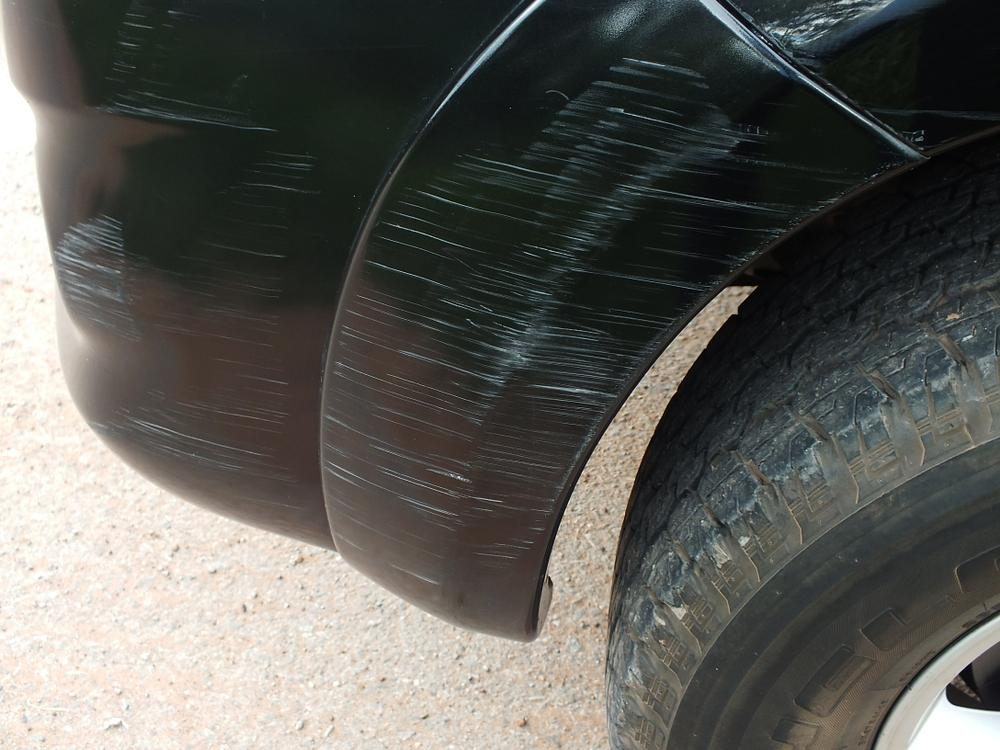scratch: (323, 45, 913, 588), (50, 0, 330, 502)
